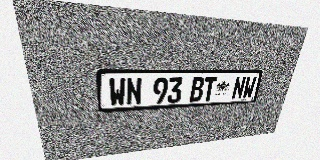3: (167, 77, 183, 103)
9: (153, 77, 169, 104)
B: (189, 77, 205, 102)
N: (126, 78, 142, 106), (231, 76, 246, 100)
T: (202, 77, 217, 101)
W: (109, 78, 126, 107), (242, 76, 257, 99)
